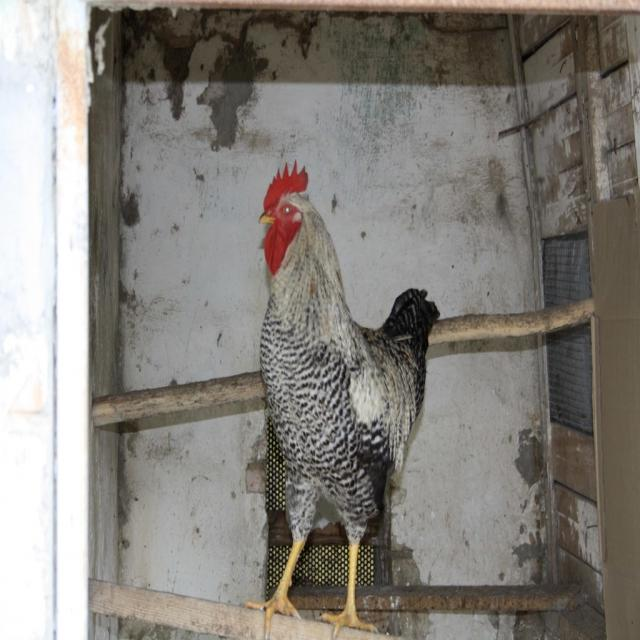Chicken: (264, 148, 442, 640)
